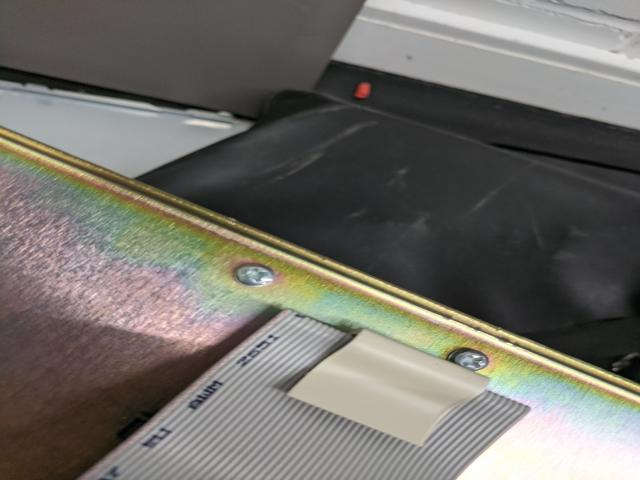CRS: (233, 261, 271, 286), (452, 347, 488, 370)
